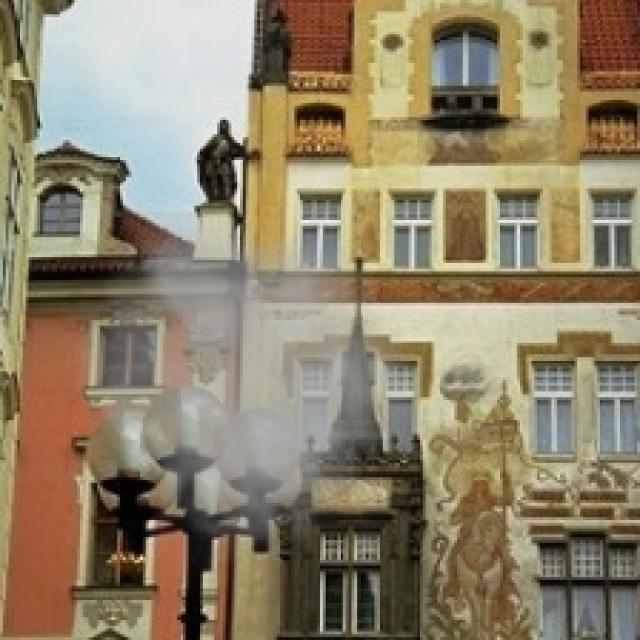smoke: (57, 211, 434, 586)
